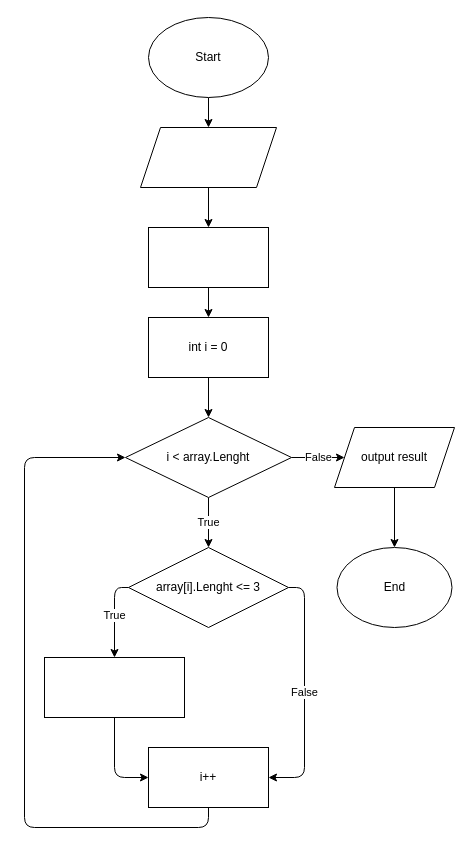
This 472x853 diagram has some shape labels left out. The shapes that lost their labels are listed below. From the top down, each one's box as (x1, y1, x2, y2) in pixels, then its label:
(140, 126, 276, 188): input string[ ] array
(148, 226, 268, 288): string[ ] result = [ ]
(44, 656, 184, 718): result.Append(array[i])
